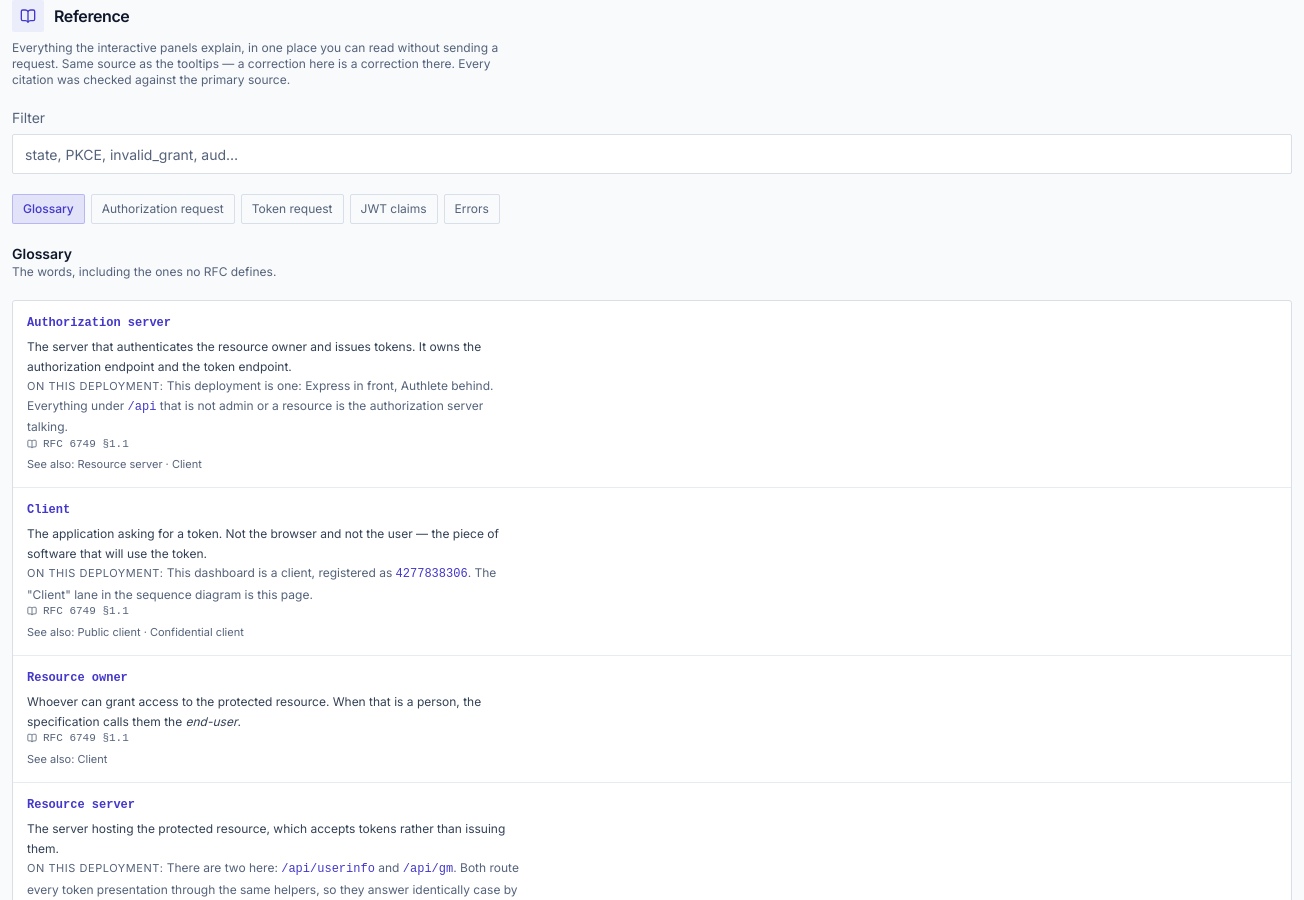
Test: ReferencePage › says so when a filter matches nothing, rather than showing an empty frame
Type "zzzznotathing" into the field labelled "Filter" at [652, 154], box 12,134 -> 1292,174
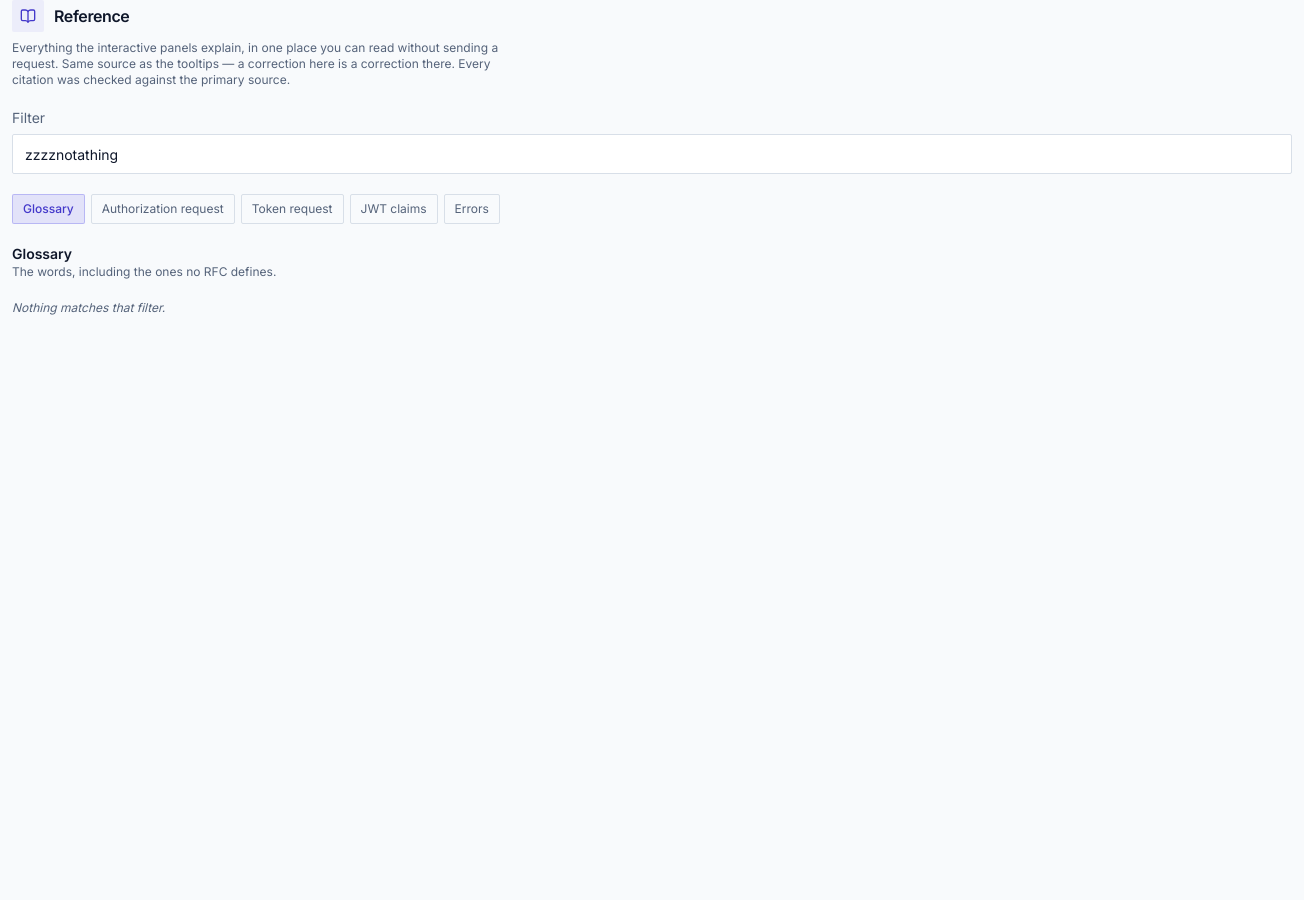
Result: the text "Nothing matches that filter." is shown at 12,300 -> 165,315
